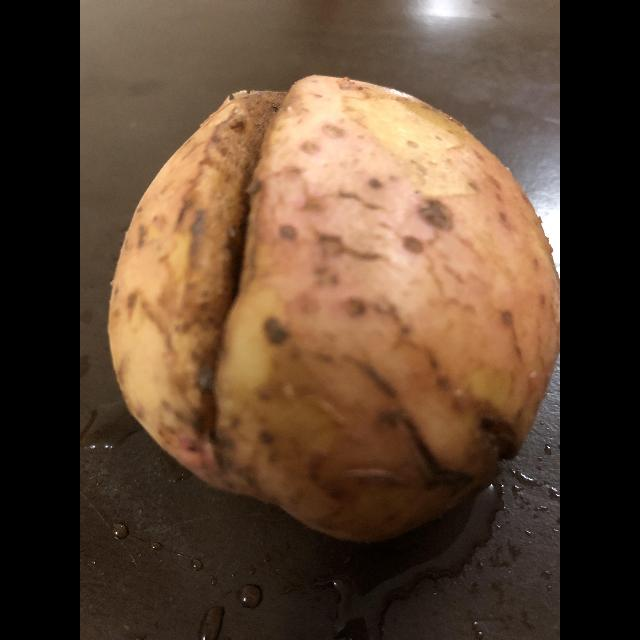Damaged potato: (115, 77, 560, 529)
